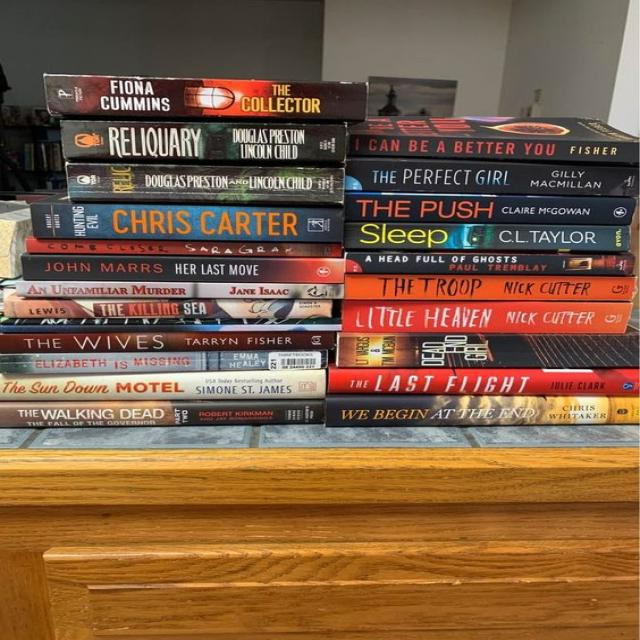book: (46, 75, 369, 119), (31, 203, 344, 242), (62, 121, 348, 161), (66, 164, 344, 204), (346, 160, 640, 196), (1, 370, 326, 401), (344, 193, 637, 226), (338, 335, 640, 367), (342, 300, 633, 333), (324, 398, 640, 428), (1, 402, 325, 429), (22, 256, 344, 283), (344, 222, 631, 251), (349, 135, 640, 163), (343, 274, 637, 301), (0, 349, 327, 373), (328, 369, 640, 394), (0, 332, 334, 354), (345, 253, 634, 275), (2, 299, 332, 318), (15, 281, 344, 299), (26, 239, 342, 257), (2, 324, 342, 333)
